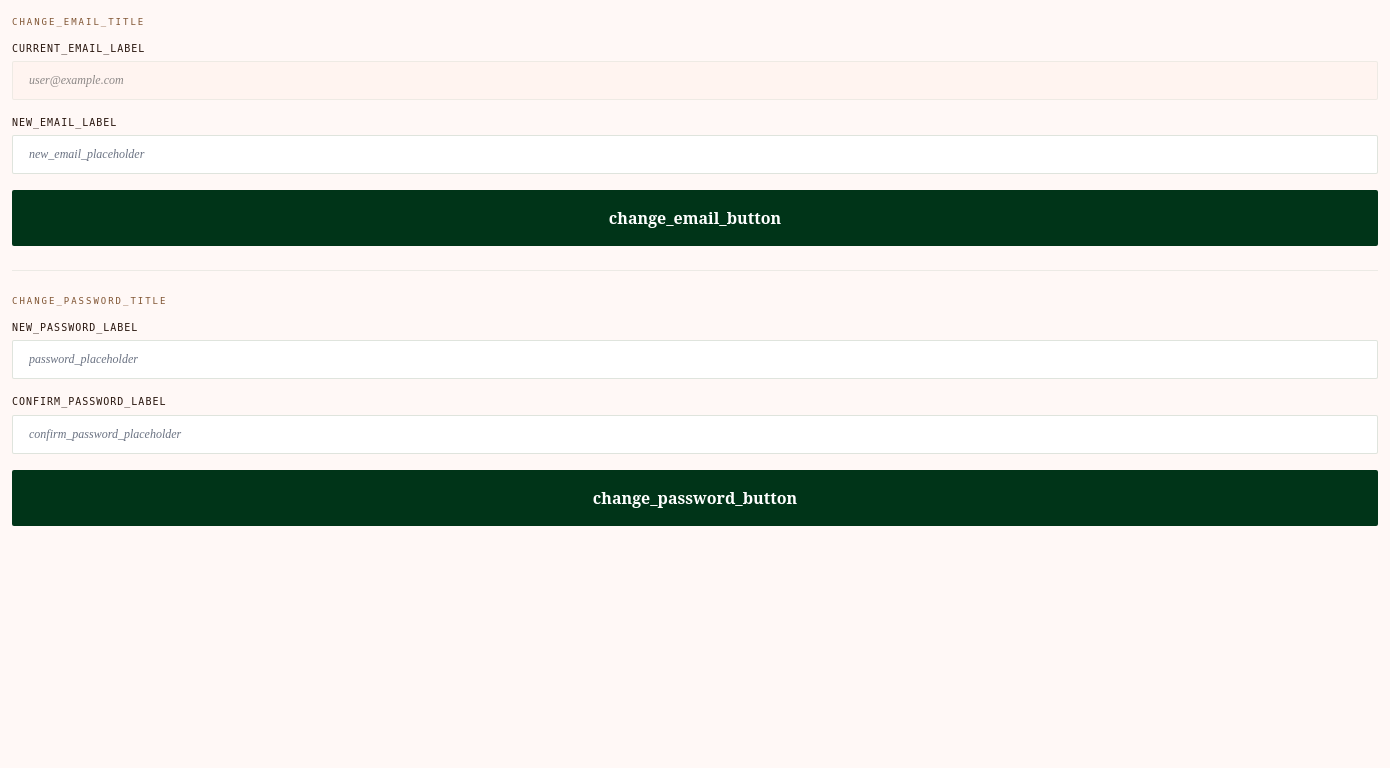
Test: SeguridadForm › muestra error si cambiarEmail falla
Type "taken@example.com" into the field with placeholder "new_email_placeholder" at (695, 155), box [12,135,1378,174]
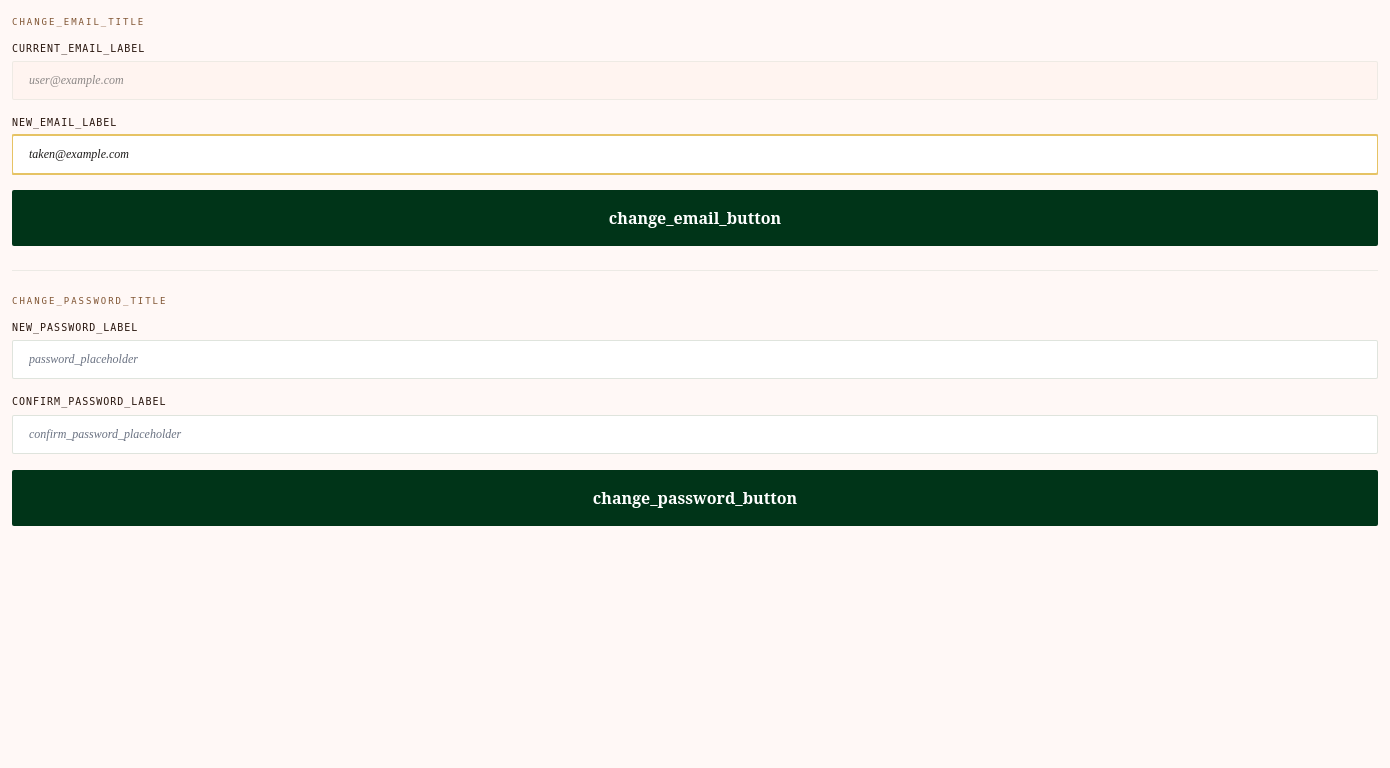
Click the button "change_email_button" at (695, 218), box [12,190,1378,246]
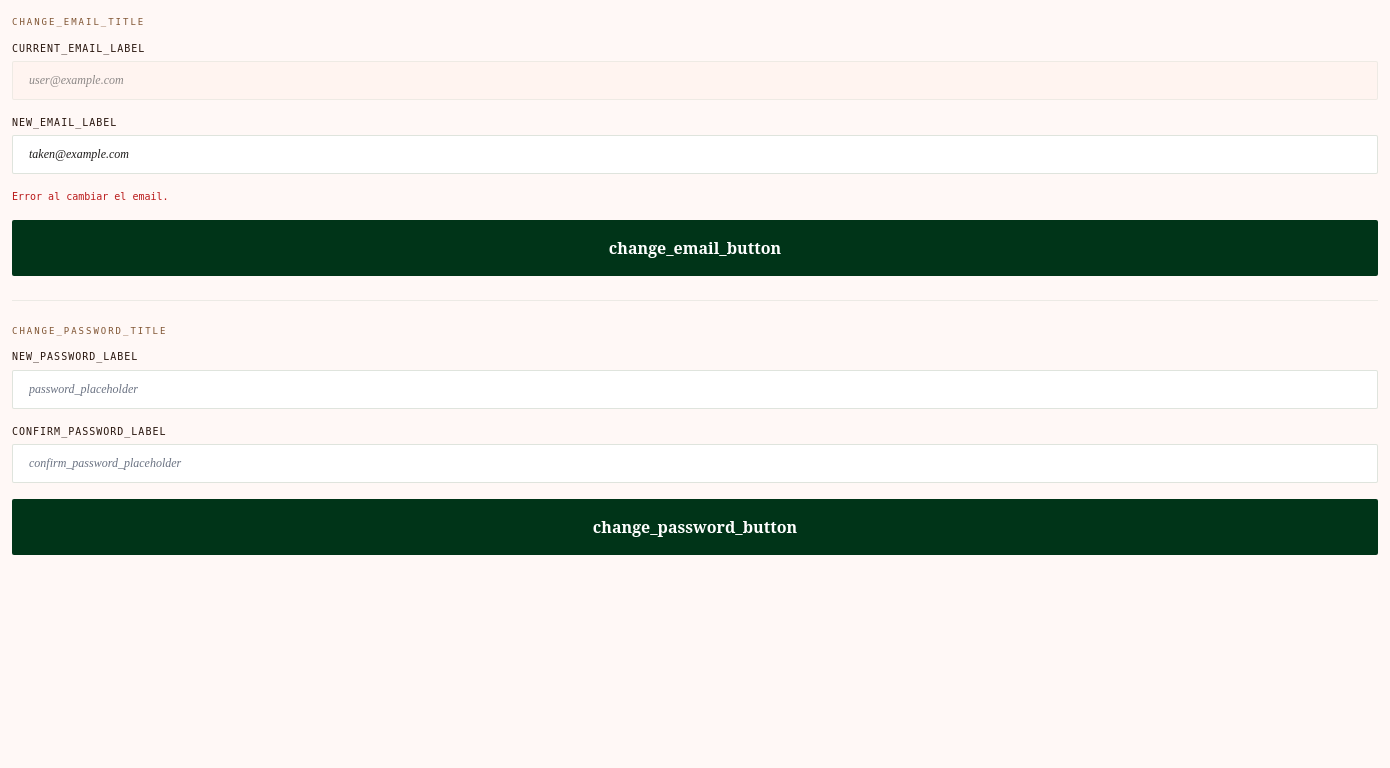
Check: the text "Error al cambiar el email." is shown, box [12,191,168,202]
